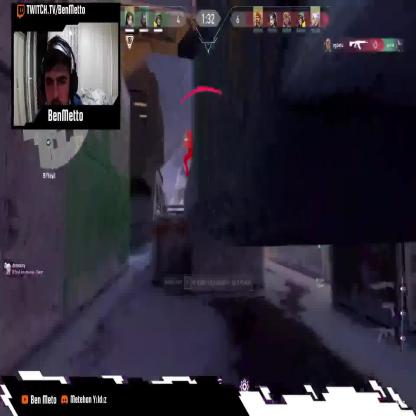enemy: (183, 129, 196, 177)
enemy_head: (187, 129, 192, 140)
